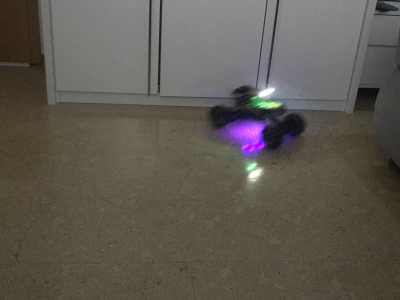remote control car: (204, 79, 308, 149)
